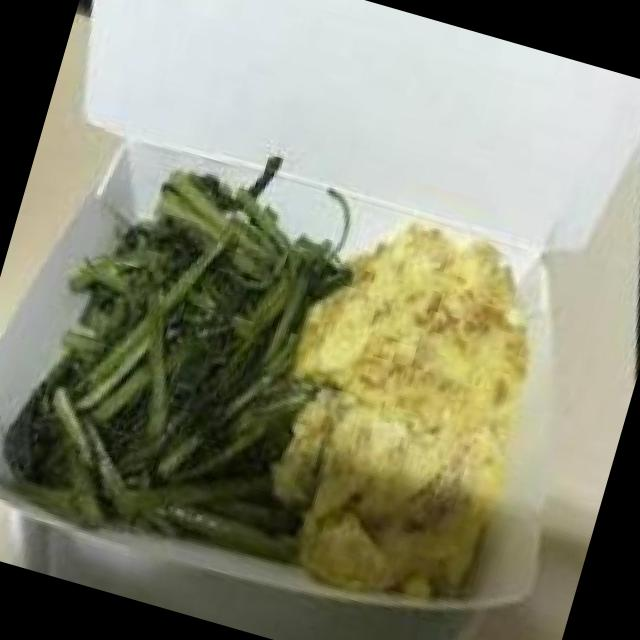water_spinach: (22, 183, 316, 532)
